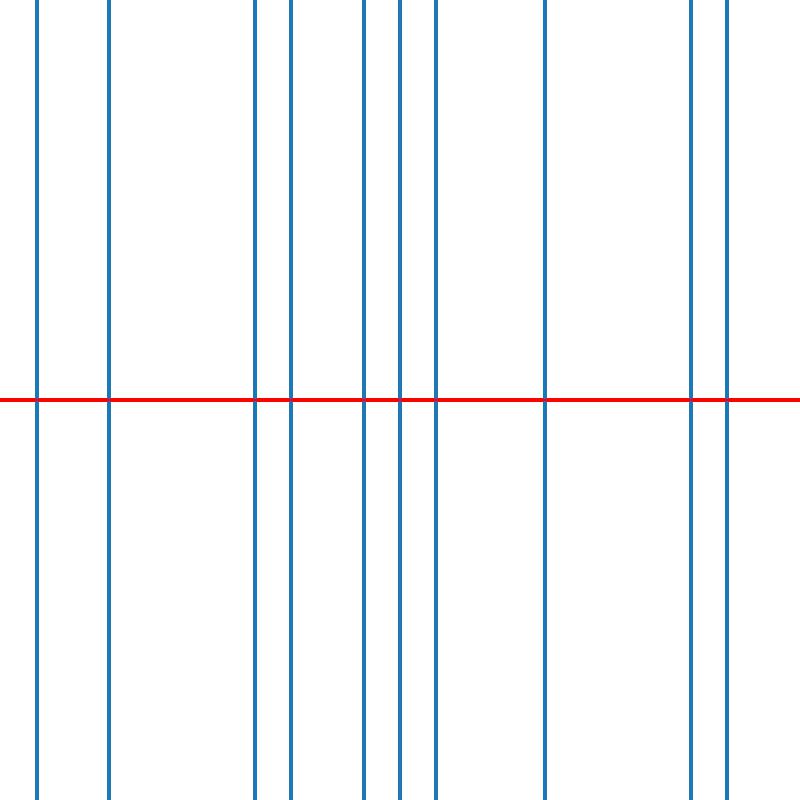root: (32, 396, 40, 404), (250, 396, 258, 404), (432, 396, 440, 404), (541, 396, 549, 404), (396, 396, 403, 404), (723, 396, 730, 404), (360, 396, 367, 404), (105, 396, 112, 404), (687, 396, 694, 404), (287, 396, 294, 404)
